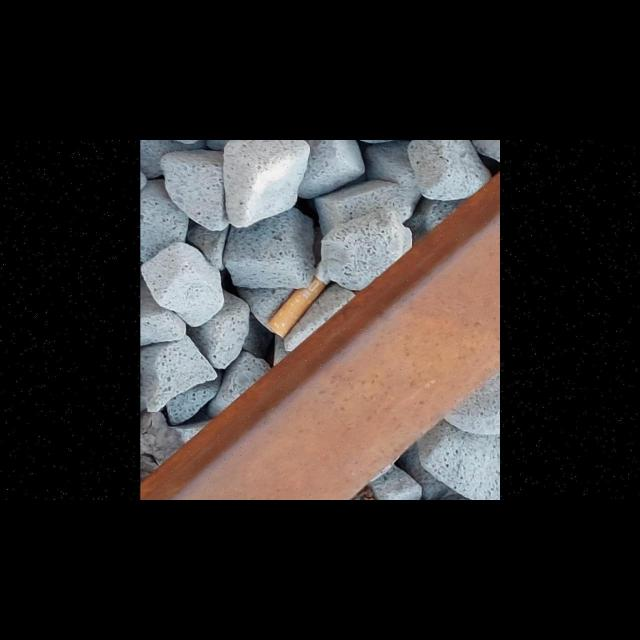cigarette: (265, 270, 333, 340)
